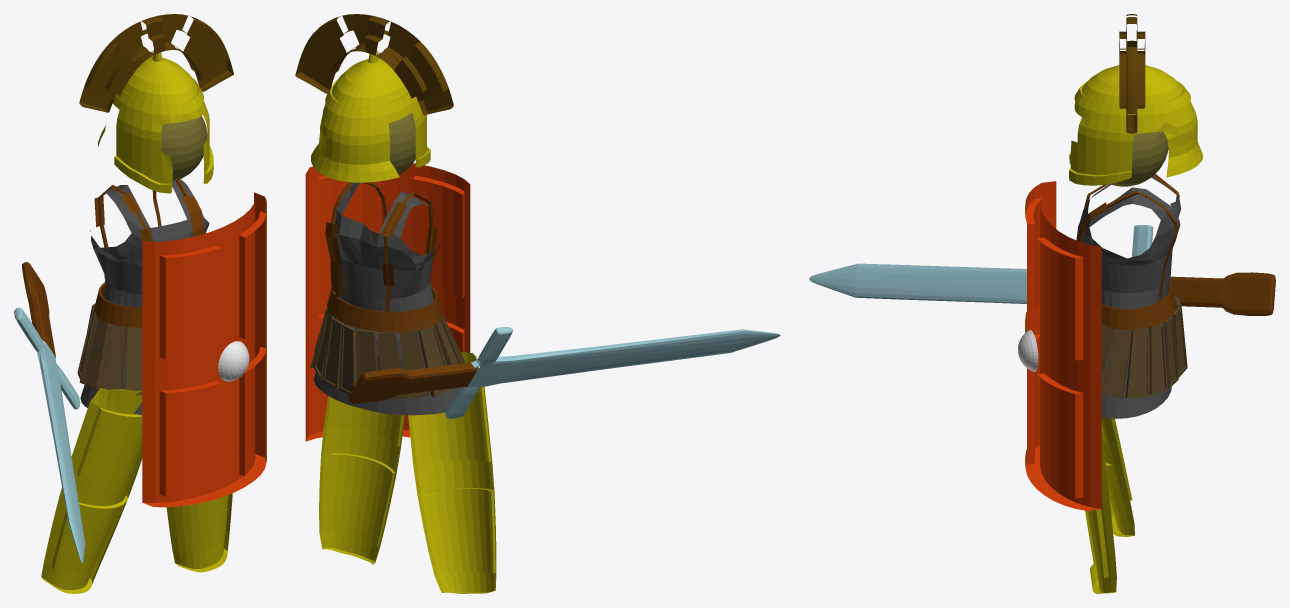
The model's file is Legion.glb.
The picture shows the model from 3 angles, left to right: view 1: azimuth 30°, elevation 25°; view 2: azimuth 150°, elevation 25°; view 3: azimuth 270°, elevation 25°; orthographic projection. The views are drawn at different scales.
Parts seen in each view (by area): view 1: Cylinder, fender right, helmet, helmet top, Circle, sword, armor upper leg, fender left, belt, Sphere.001, sword handle, Sphere; view 2: Cylinder, fender right, fender left, Circle, helmet, sword, helmet top, armor upper leg, belt, sword handle, Sphere.001; view 3: Cylinder, helmet, sword, Circle, armor upper leg, sword handle, belt, fender left, fender right, helmet top, Sphere.001, Sphere.
Boxes of the visible parts, x1,y1,x2,y2 form: Cylinder: (142,192,266,507); fender right: (41,388,142,593); helmet: (98,49,213,193); helmet top: (79,14,233,112); Circle: (80,179,209,415); sword: (14,307,85,563); armor upper leg: (77,304,142,395); fender left: (166,493,232,572); belt: (94,180,204,327); Sphere.001: (161,116,207,181); sword handle: (22,262,55,357); Sphere: (218,341,249,381); Cylinder: (305,163,470,441); fender right: (408,352,496,593); fender left: (319,396,405,564); Circle: (313,182,460,415); helmet: (311,50,430,182); sword: (445,327,780,418); helmet top: (295,14,453,115); armor upper leg: (310,307,465,399); belt: (325,182,442,332); sword handle: (348,362,477,403); Sphere.001: (388,113,415,174); Cylinder: (1025,181,1101,510); helmet: (1069,65,1203,185); sword: (809,225,1153,303); Circle: (1076,176,1180,418); armor upper leg: (1101,296,1187,398); sword handle: (1170,272,1275,315); belt: (1077,174,1179,329); fender left: (1085,432,1116,593); fender right: (1101,418,1134,537); helmet top: (1119,14,1145,133); Sphere.001: (1109,131,1168,186); Sphere: (1018,329,1038,371).
Bounding box in the file's own units: 1.28 × 2.07 × 1.59.
